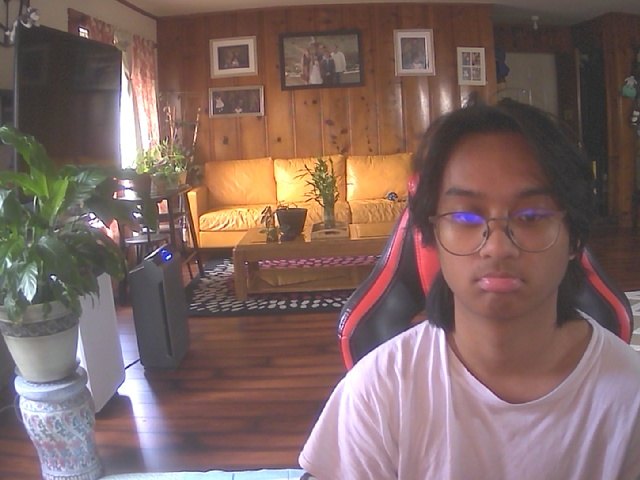sad: (428, 121, 582, 322)
